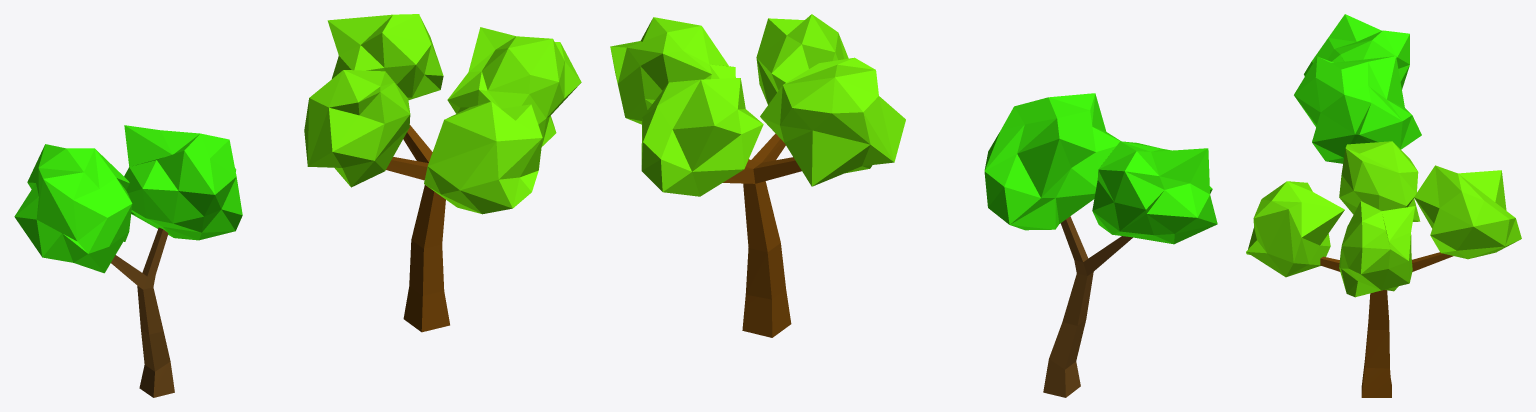
The model's file is Tree.FBX.
The picture shows the model from 3 angles, left to right: view 1: azimuth 30°, elevation 25°; view 2: azimuth 150°, elevation 25°; view 3: azimuth 270°, elevation 25°; orthographic projection. The views are drawn at different scales.
Parts seen in each view (by area): view 1: Tree 2, Tree 1; view 2: Tree 2, Tree 1; view 3: Tree 2, Tree 1.
Part boxes in pixels (box(x1,y1,x2,y2)): Tree 2: box(304, 14, 581, 332); Tree 1: box(14, 125, 242, 397); Tree 2: box(610, 14, 905, 337); Tree 1: box(984, 93, 1217, 397); Tree 2: box(1246, 141, 1521, 397); Tree 1: box(1294, 14, 1421, 163).
Bounding box in the file's own units: 70.28 × 32.38 × 36.04.
